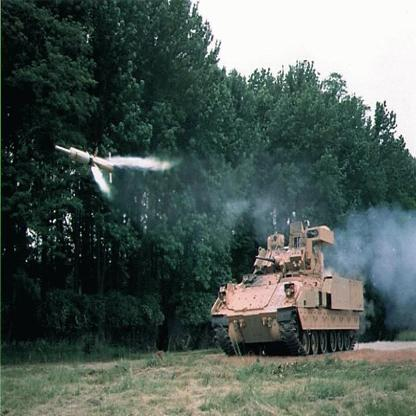Tank: (204, 215, 367, 363)
